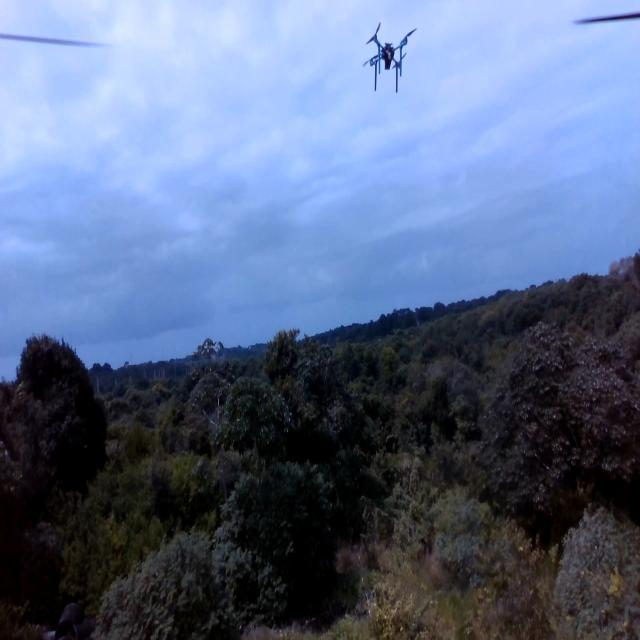-uav-: (354, 16, 421, 102)
